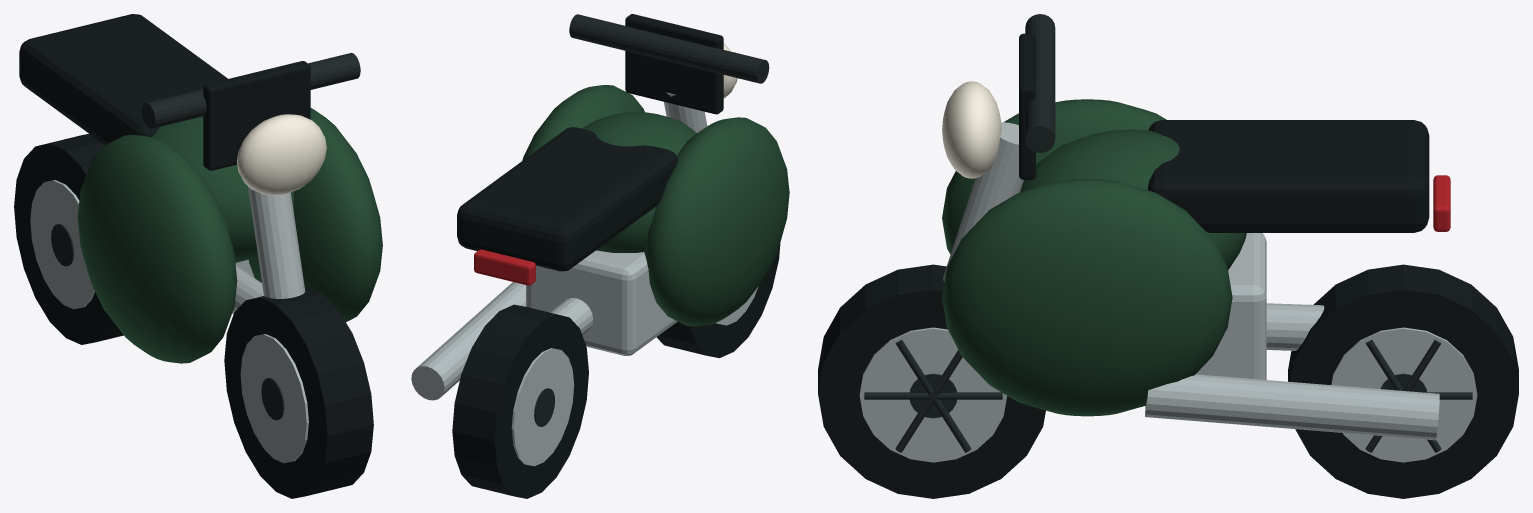
The model's file is best.glb.
3 renders of one model, left to right at view 1: azimuth 30°, elevation 25°; view 2: azimuth 150°, elevation 25°; view 3: azimuth 270°, elevation 25°, orthographic. The views are drawn at different scales.
Visible parts, largest first — view 1: Saddle, Fuel tank, Engine, Headlight, Handlebar; view 2: Saddle, Fuel tank, Engine, Handlebar, Rear light; view 3: Saddle, Fuel tank, Engine, Handlebar, Headlight, Rear light.
Boxes of the visible parts, <box> form: Saddle: <box>14,14,373,498</box>; Fuel tank: <box>77,108,382,363</box>; Engine: <box>30,180,308,463</box>; Headlight: <box>237,114,326,195</box>; Handlebar: <box>51,53,360,420</box>; Saddle: <box>452,14,780,498</box>; Fuel tank: <box>522,85,789,326</box>; Engine: <box>411,92,758,466</box>; Handlebar: <box>534,14,769,426</box>; Rear light: <box>474,249,535,285</box>; Saddle: <box>818,33,1518,498</box>; Fuel tank: <box>942,99,1246,416</box>; Engine: <box>859,122,1477,462</box>; Handlebar: <box>864,14,1472,452</box>; Headlight: <box>942,81,1001,178</box>; Rear light: <box>1433,175,1450,231</box>.
Bounding box in the file's own units: 0.4114 × 0.6286 × 0.9371.
